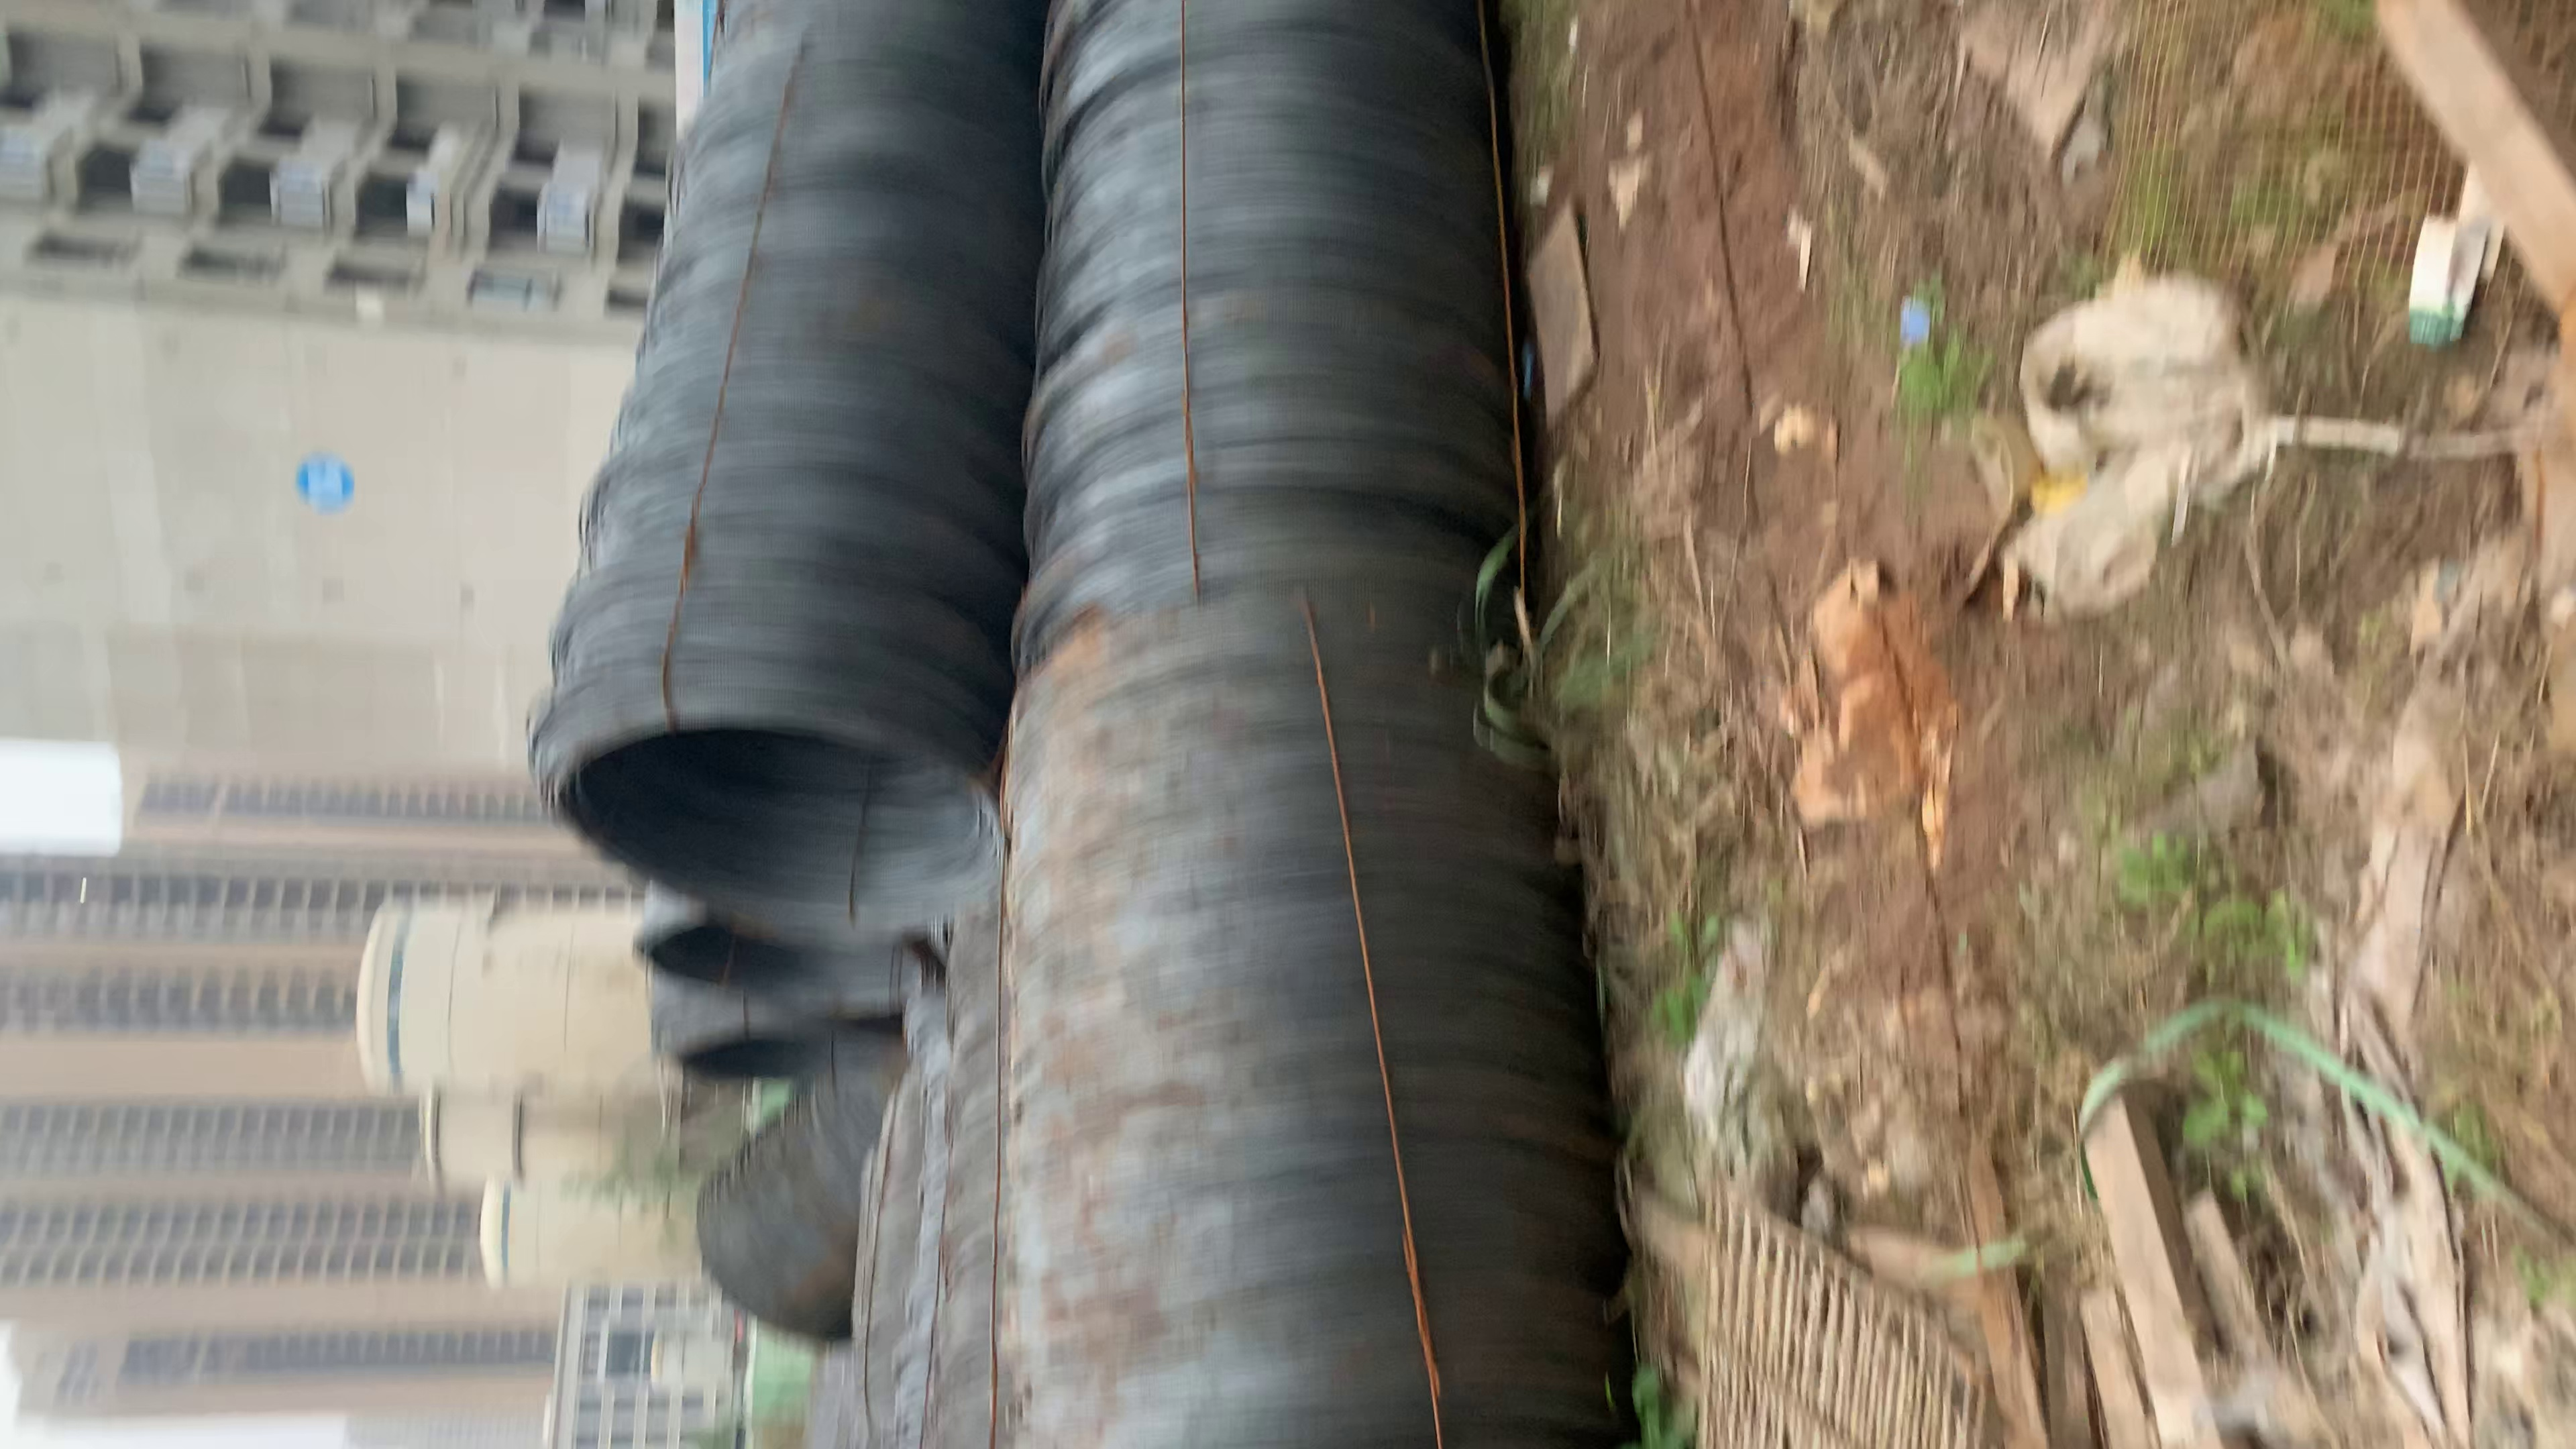coil: (570, 681, 1016, 950), (628, 908, 952, 1028), (648, 1021, 911, 1092)
